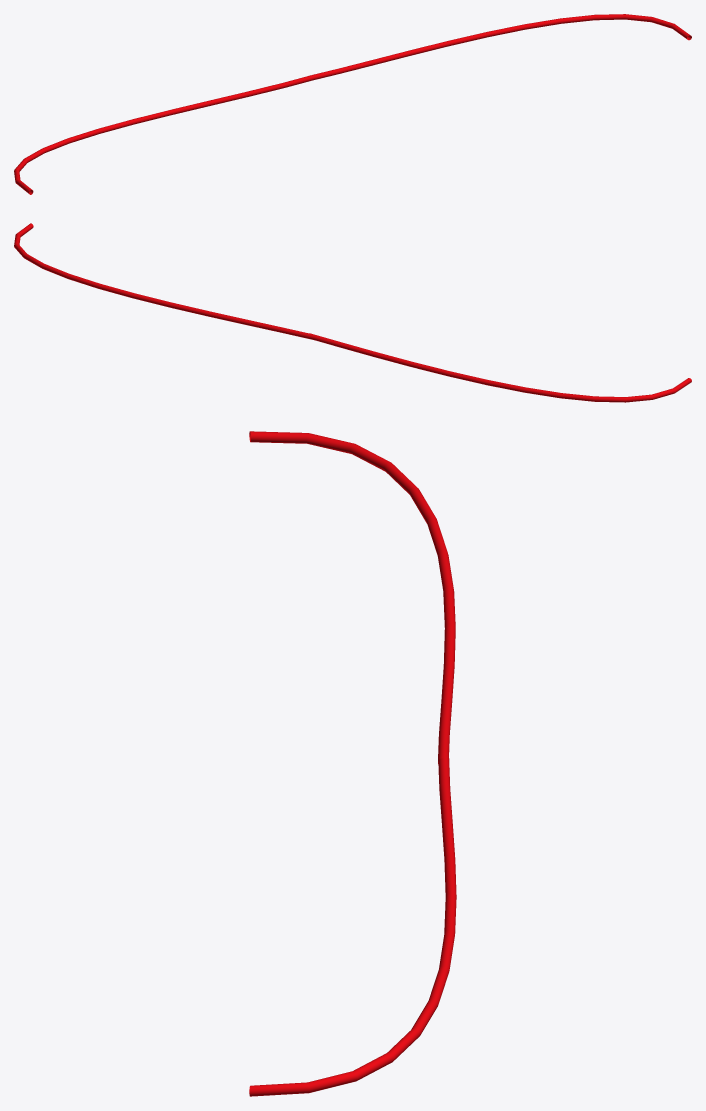
File: KabelFürKurbel.fbx
3 renders of one model, top to bottom at view 1: azimuth 30°, elevation 25°; view 2: azimuth 150°, elevation 25°; view 3: azimuth 270°, elevation 25°, orthographic. The views are drawn at different scales.
Parts seen in each view (by area): view 1: Kabel für Kurbel; view 2: Kabel für Kurbel; view 3: Kabel für Kurbel.
Part boxes in pixels (x1,y1,x2,y2): Kabel für Kurbel: (14, 14, 691, 194); Kabel für Kurbel: (14, 223, 691, 402); Kabel für Kurbel: (249, 431, 456, 1096).
Size of the model in its own units: 560 by 8.89 by 75.83.
